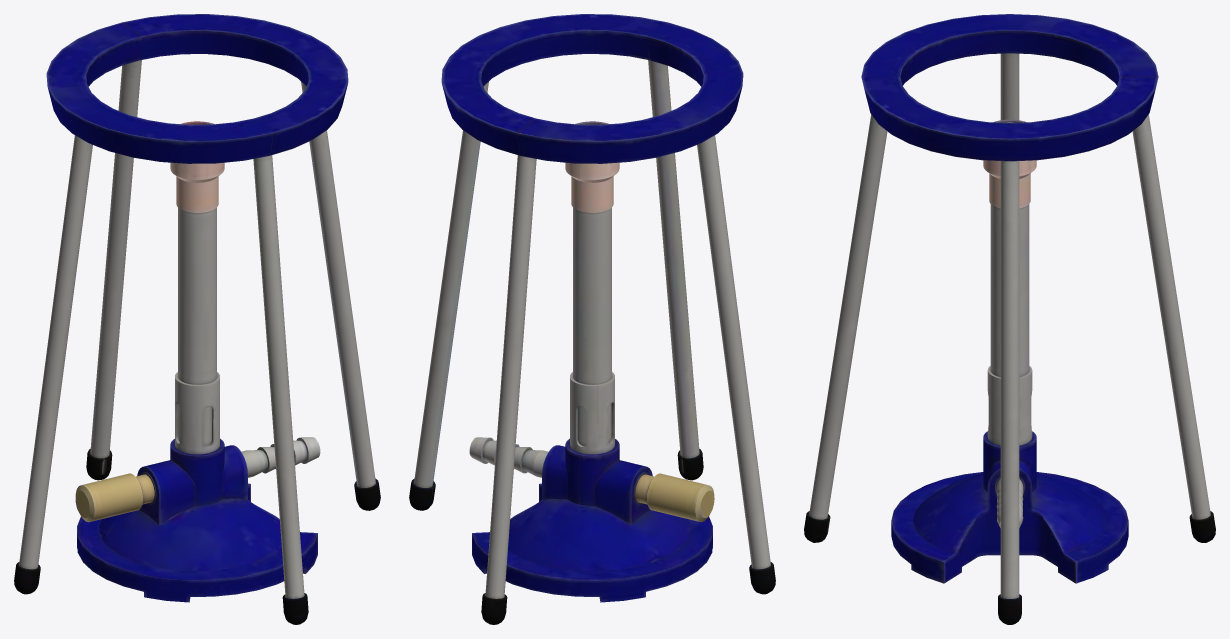
Rendered from bunsen_burner.glb.
3 renders of one model, left to right at view 1: azimuth 30°, elevation 25°; view 2: azimuth 150°, elevation 25°; view 3: azimuth 270°, elevation 25°, orthographic.
Parts seen in each view (by area): view 1: bunsen_burner; view 2: bunsen_burner; view 3: bunsen_burner.
Part boxes in pixels (x1,y1,x2,y2): bunsen_burner: (14,14,380,624); bunsen_burner: (409,14,775,624); bunsen_burner: (804,14,1215,624).
Bounding box in the file's own units: 0.1388 × 0.1731 × 0.1388.
Materials: 1 (1 with a texture image).
